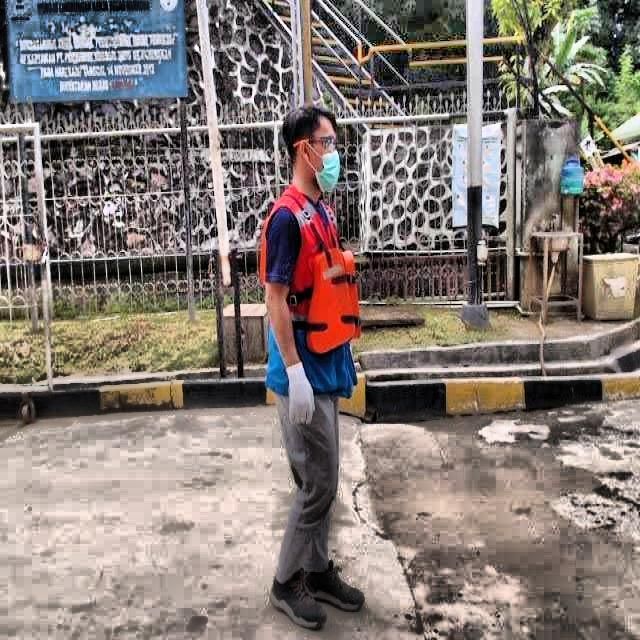safety_jacket: (262, 181, 360, 394)
